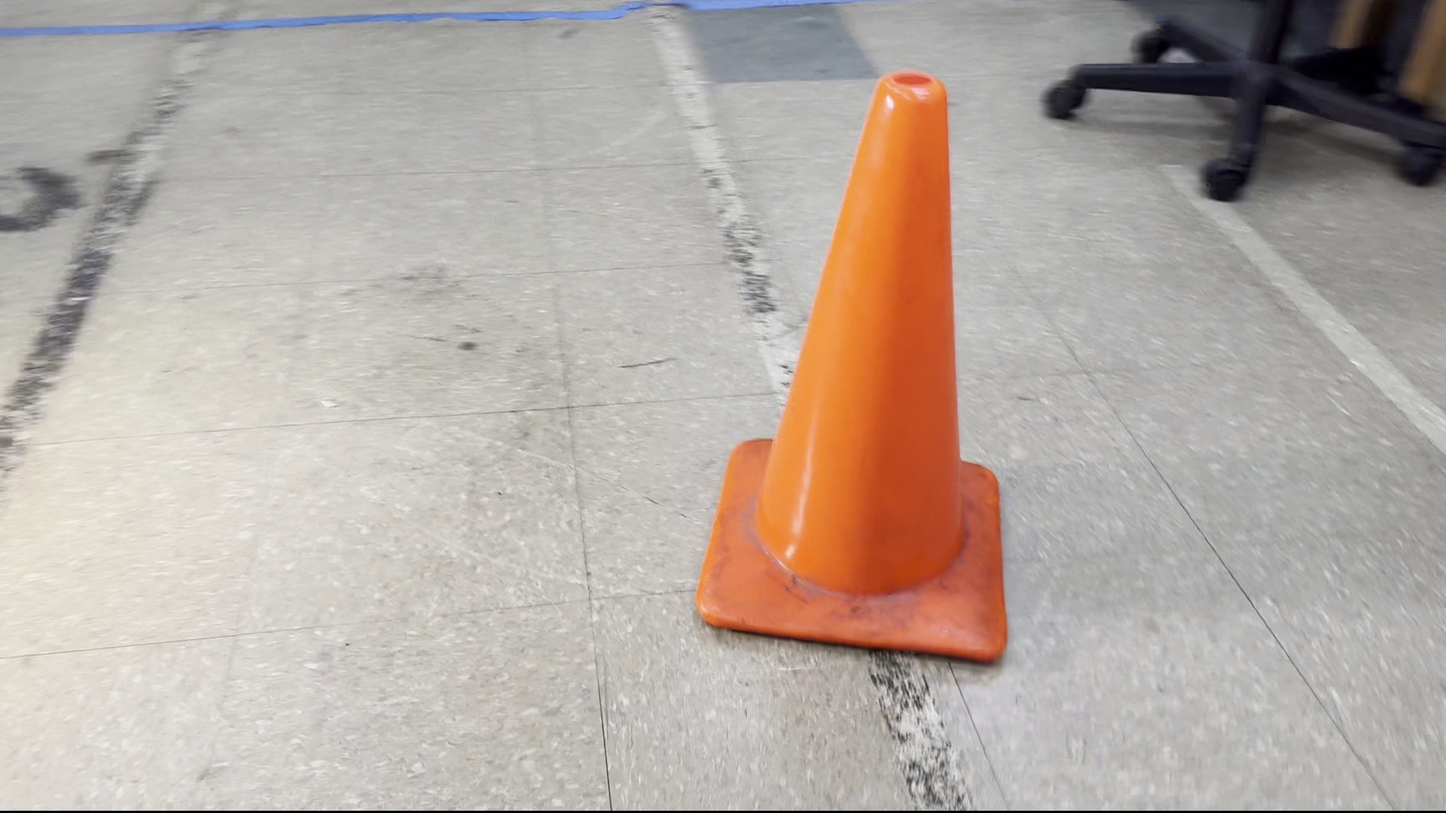traffic_cone: (693, 68, 1008, 664)
